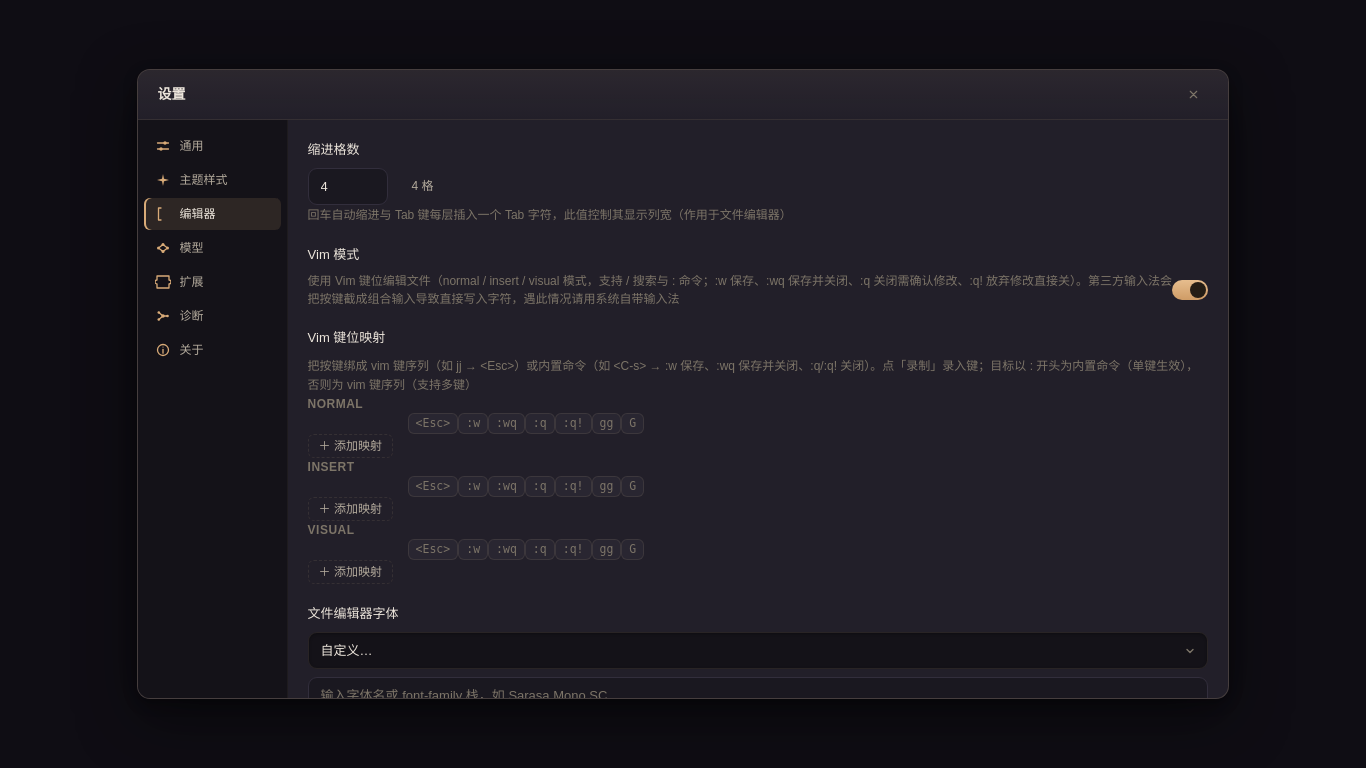
Test: SettingsPanel vim key recording lifecycle › record_state_cleared_when_row_deleted
This screenshot has width=1366, height=768.
Click the 1st button "＋ 添加映射". click: {"x": 350, "y": 446}
box: [308,434,393,458]
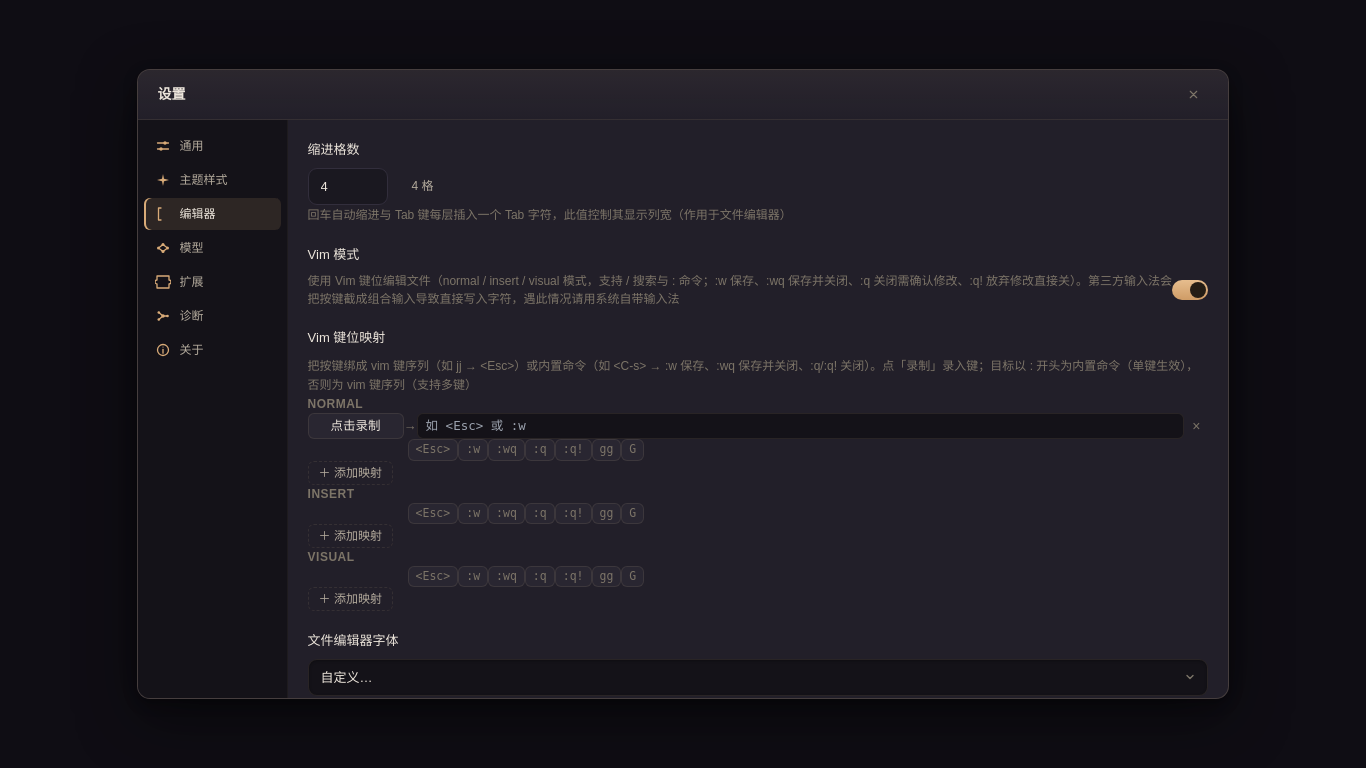
Click the button "点击录制". click: {"x": 356, "y": 426}
box: [308,413,404,439]
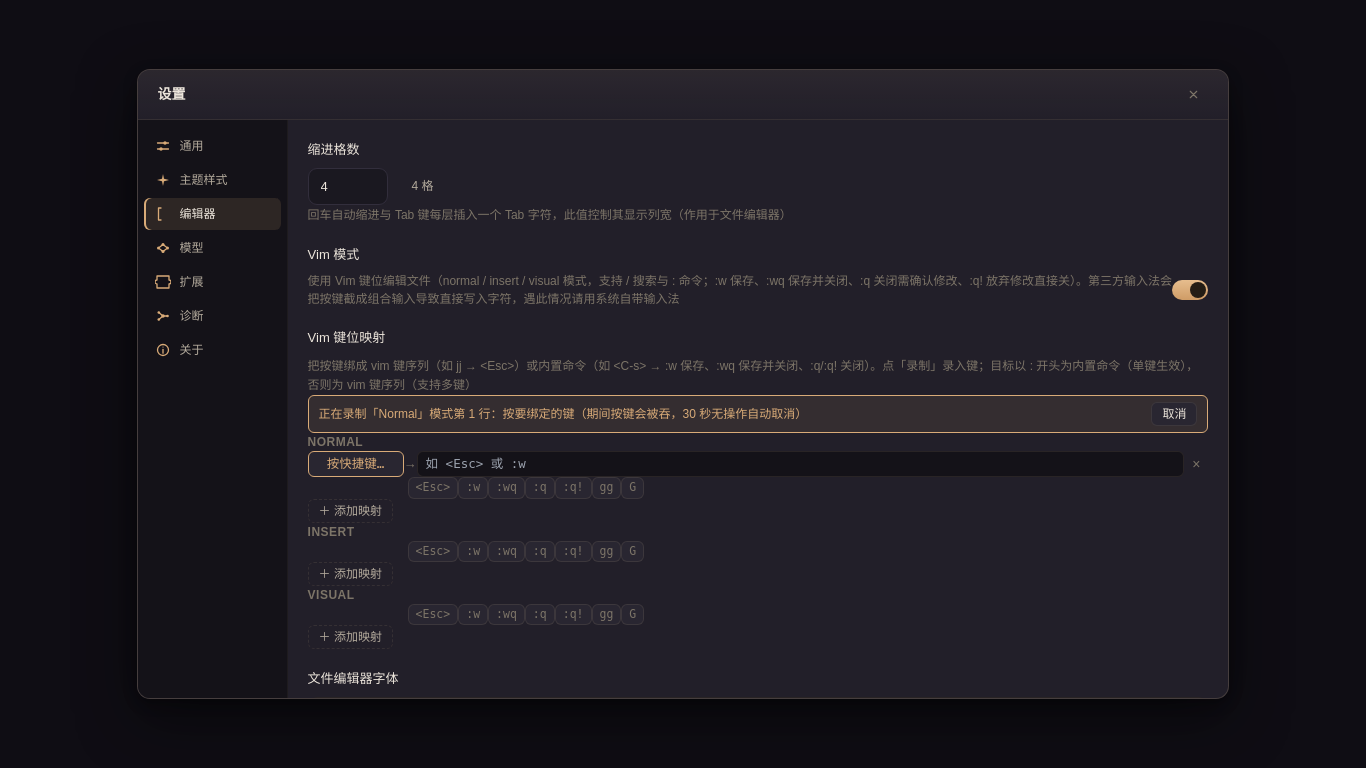
Check: the message "正在录制「Normal」模式第 1 行：按要绑定的键（期间按键会被吞，30 秒无操作自动取消） 取消" is shown, box [308,395,1208,433]
Click the button "×". click: {"x": 1196, "y": 464}
box: [1184,455,1208,473]
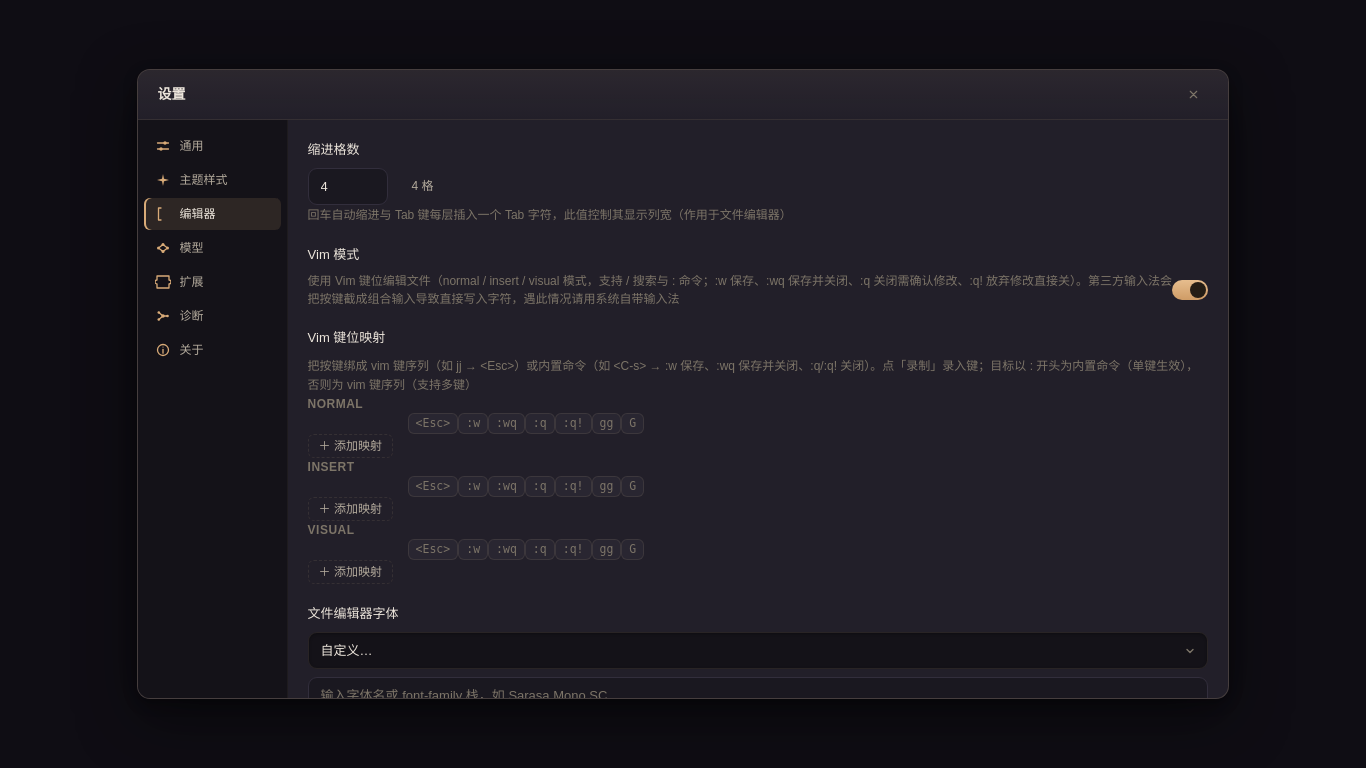
Check: the message "正在录制「Normal」模式第 1 行：按要绑定的键（期间按键会被吞，30 秒无操作自动取消） 取消" is gone
